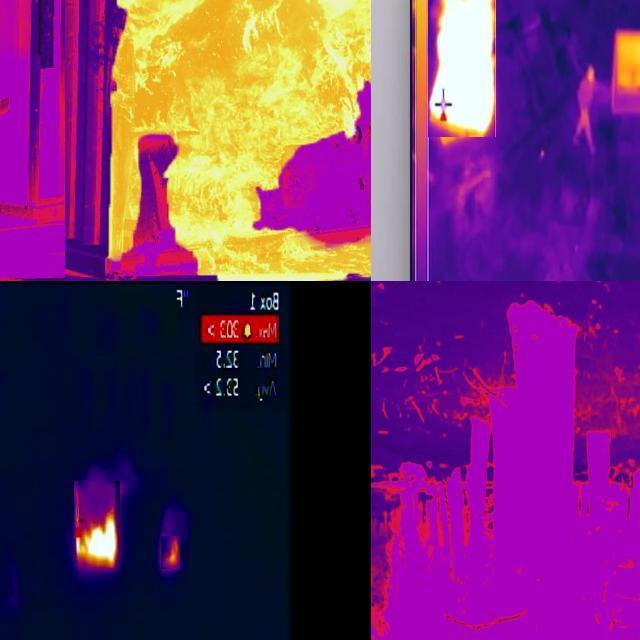fire: (121, 1, 372, 277), (429, 1, 497, 138), (75, 482, 121, 572), (614, 34, 640, 89), (162, 537, 181, 570)
